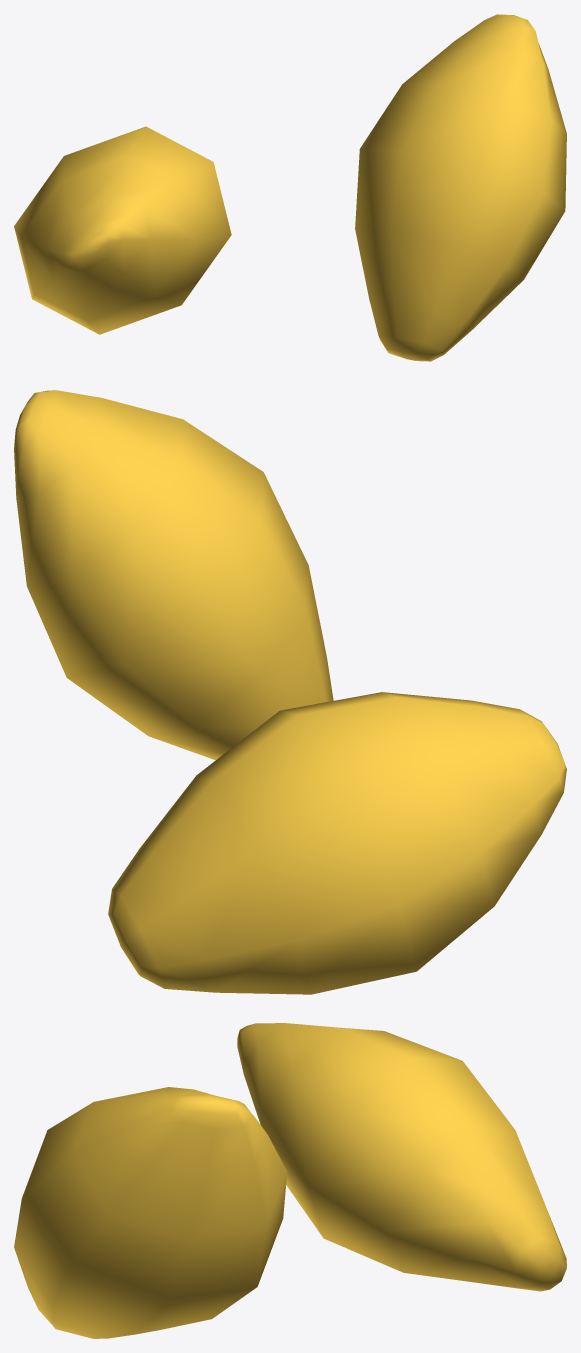
The model's file is wheat stage 0.glb.
3 renders of one model, top to bottom at view 1: azimuth 30°, elevation 25°; view 2: azimuth 150°, elevation 25°; view 3: azimuth 270°, elevation 25°, orthographic. The views are drawn at different scales.
Parts seen in each view (by area): view 1: WheatStage0; view 2: WheatStage0; view 3: WheatStage0.
Part boxes in pixels (x1,y1,x2,y2): WheatStage0: (14, 14, 566, 361); WheatStage0: (14, 390, 566, 994); WheatStage0: (14, 1023, 566, 1338).
Size of the model in its own units: 0.159 by 0.1029 by 0.147.
1 material, 1 textured.
